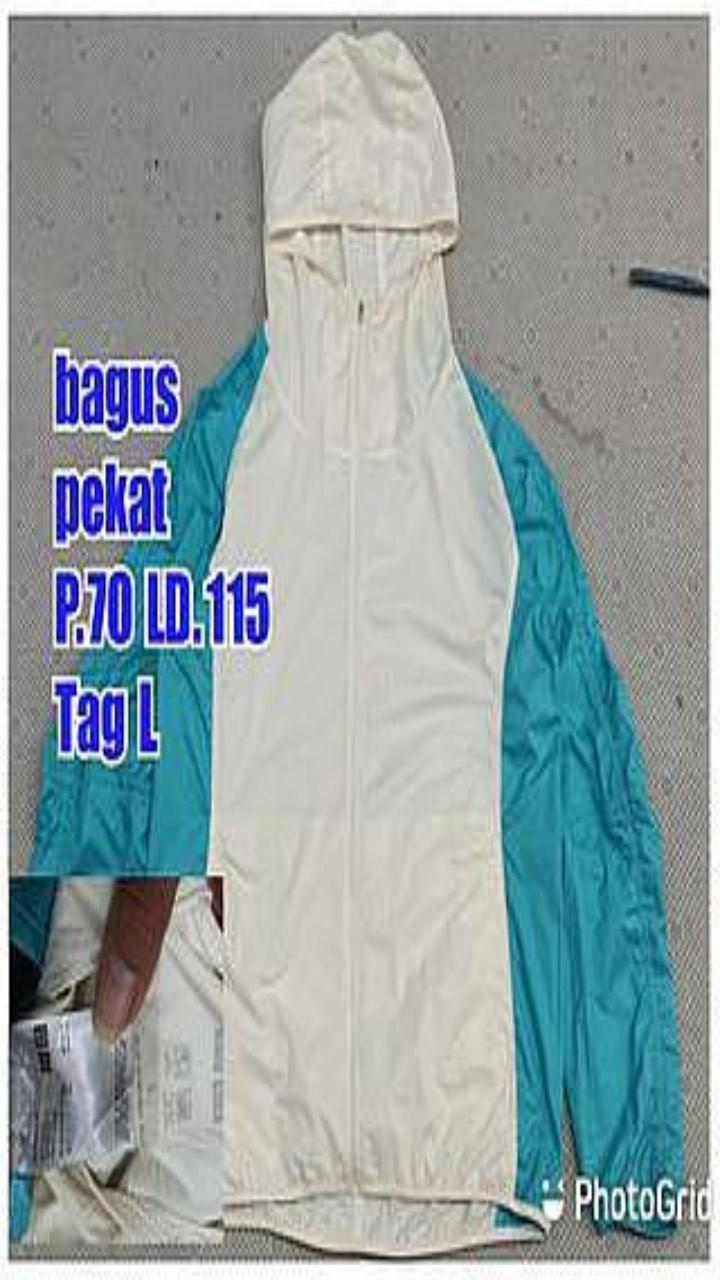Sports_Jacket: (31, 32, 682, 1253)
